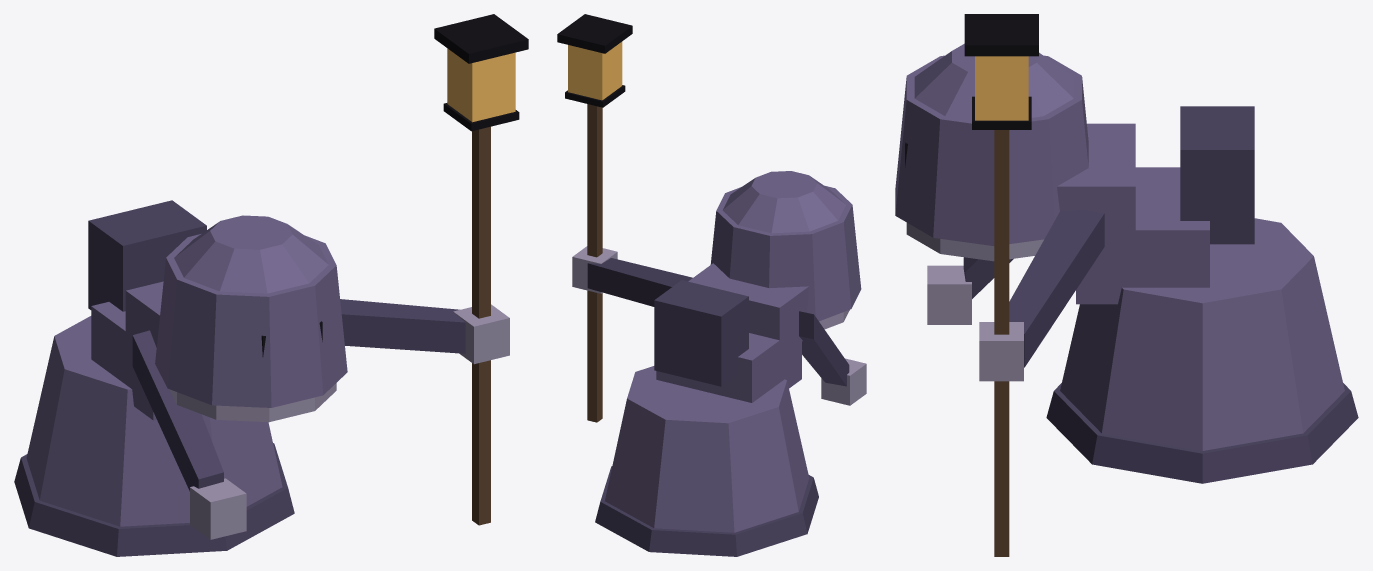
File: HollowParishioner_uv.glb
3 views of the same model, side by side, from view 1: azimuth 30°, elevation 25°; view 2: azimuth 150°, elevation 25°; view 3: azimuth 270°, elevation 25° (orthographic). The views are drawn at different scales.
Parts seen in each view (by area): view 1: HollowParishioner; view 2: HollowParishioner; view 3: HollowParishioner.
Part boxes in pixels (x1,y1,x2,y2): HollowParishioner: (14,14,528,556); HollowParishioner: (557,14,866,556); HollowParishioner: (895,14,1358,556).
Size of the model in its own units: 3.25 by 3.89 by 3.12.
1 material, 1 textured.
